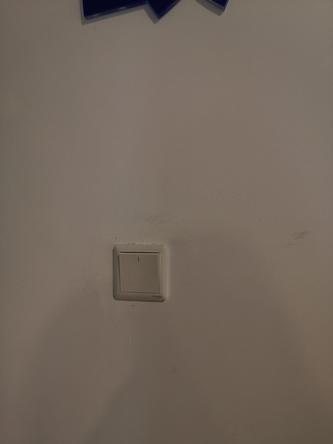switch: (116, 248, 164, 299)
